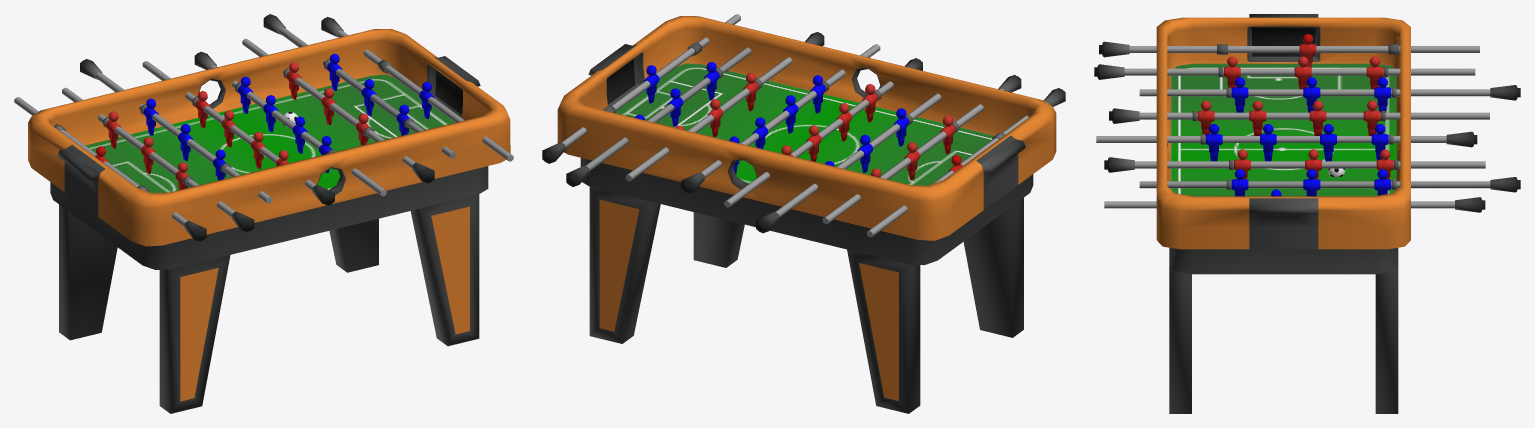
File: Foosball_Table.fbx
3 views of the same model, side by side, from view 1: azimuth 30°, elevation 25°; view 2: azimuth 150°, elevation 25°; view 3: azimuth 270°, elevation 25° (orthographic). The views are drawn at different scales.
Visible parts, largest first — view 1: Base, Blue_Team_Stick.001, Red_Team_Stick.002, Red_Team_Stick.003, Blue_Team_Stick, Blue_Team_Stick.002, Red_Team_Stick.001, Blue_Team_Stick.003, Red_Team_Stick; view 2: Base, Blue_Team_Stick.001, Red_Team_Stick.002, Blue_Team_Stick, Blue_Team_Stick.002, Red_Team_Stick.001, Red_Team_Stick.003, Blue_Team_Stick.003, Red_Team_Stick; view 3: Base, Red_Team_Stick.002, Blue_Team_Stick.001, Blue_Team_Stick, Red_Team_Stick.001, Blue_Team_Stick.002, Red_Team_Stick.003, Red_Team_Stick, Blue_Team_Stick.003.
Boxes of the visible parts, box(x1,y1,x2,y2) form: Base: box(28, 29, 510, 413); Blue_Team_Stick.001: box(194, 51, 386, 196); Red_Team_Stick.002: box(142, 61, 334, 205); Red_Team_Stick.003: box(242, 38, 434, 183); Blue_Team_Stick: box(80, 59, 272, 203); Blue_Team_Stick.002: box(263, 14, 455, 158); Red_Team_Stick.001: box(62, 87, 254, 232); Blue_Team_Stick.003: box(321, 17, 513, 161); Red_Team_Stick: box(14, 97, 206, 241); Base: box(557, 16, 1056, 413); Blue_Team_Stick.001: box(681, 44, 880, 193); Red_Team_Stick.002: box(724, 58, 922, 207); Blue_Team_Stick: box(756, 93, 941, 233); Blue_Team_Stick.002: box(566, 47, 751, 186); Red_Team_Stick.001: box(822, 74, 1021, 224); Red_Team_Stick.003: box(625, 32, 824, 181); Blue_Team_Stick.003: box(542, 14, 740, 163); Red_Team_Stick: box(867, 88, 1065, 237); Base: box(1156, 14, 1410, 413); Red_Team_Stick.002: box(1109, 100, 1489, 135); Blue_Team_Stick.001: box(1096, 124, 1477, 161); Blue_Team_Stick: box(1139, 77, 1520, 112); Red_Team_Stick.001: box(1094, 56, 1475, 89); Blue_Team_Stick.002: box(1139, 169, 1520, 196); Red_Team_Stick.003: box(1104, 149, 1485, 179); Red_Team_Stick: box(1099, 34, 1479, 67); Blue_Team_Stick.003: box(1104, 189, 1485, 212).
Bounding box in the file's own units: 1.79 × 0.9772 × 1.65.
